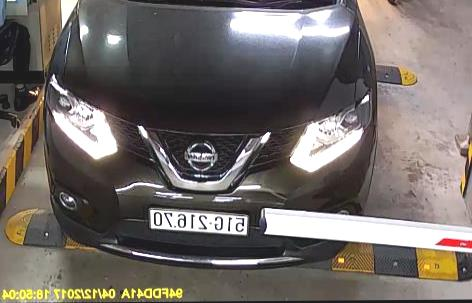License_Plate: (147, 209, 249, 234)
